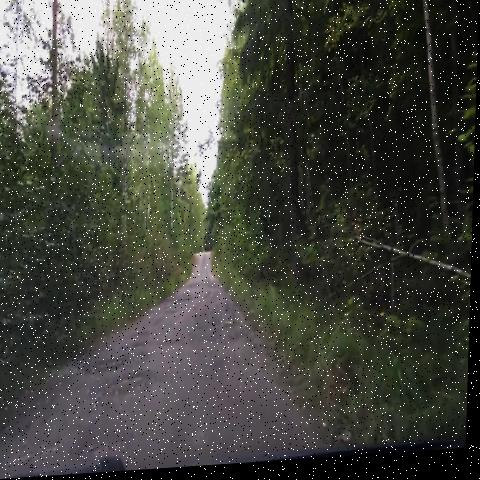pothole: (60, 423, 149, 469), (94, 364, 163, 415), (70, 347, 136, 389), (199, 328, 256, 362), (205, 295, 246, 337), (125, 338, 159, 369), (158, 331, 184, 359), (158, 302, 186, 328), (178, 290, 199, 311)
